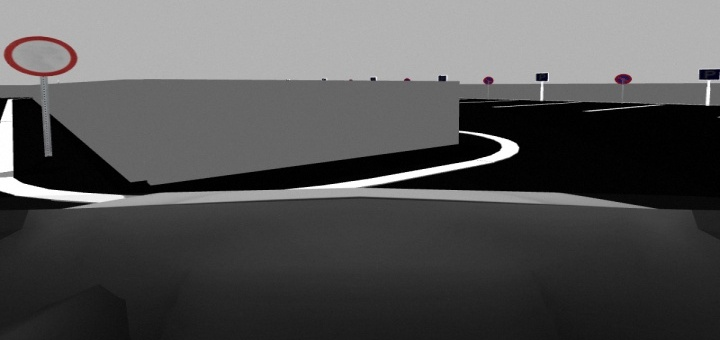girilmez: (3, 37, 79, 79)
